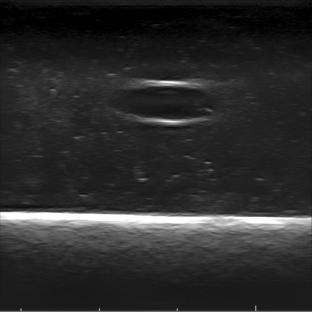vessel: (113, 80, 217, 126)
